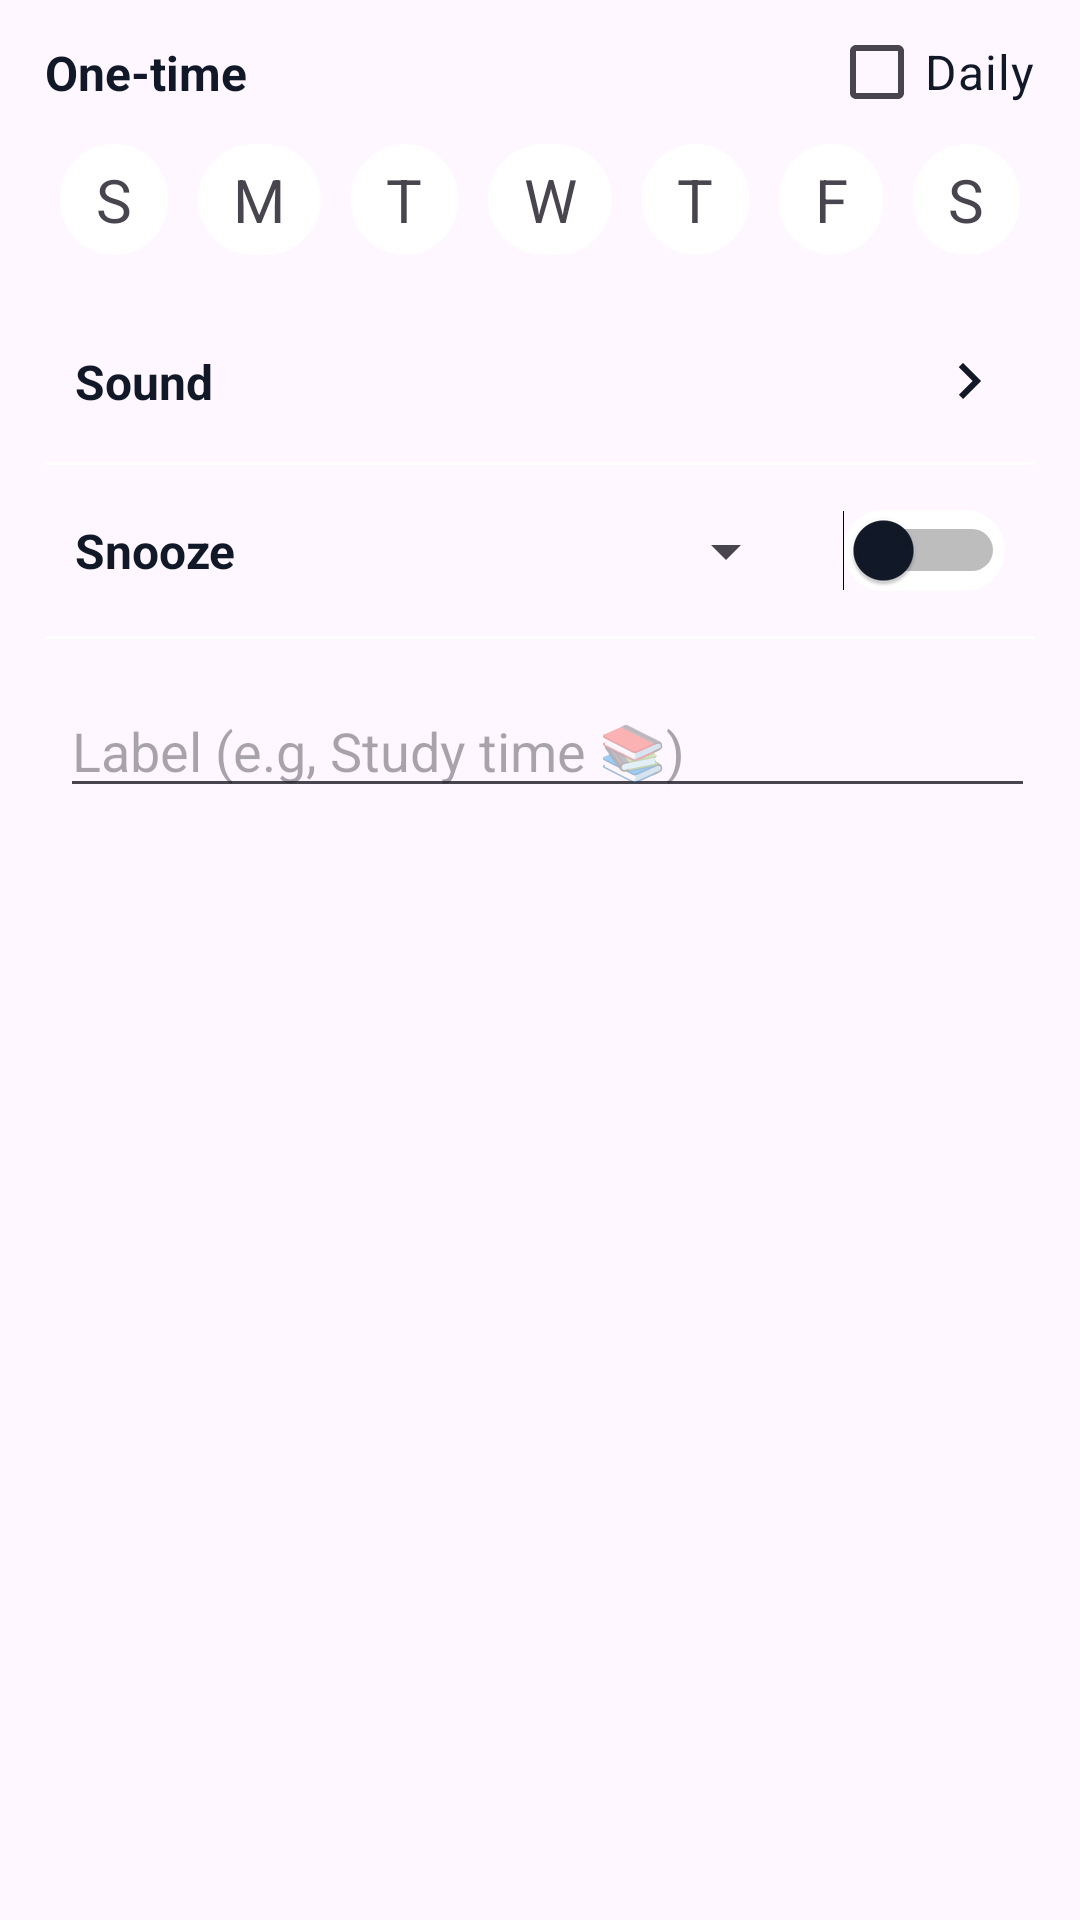

Icons on this 1080px x 1920px Android screen, each with the point to tap as point (x, y):
keyboard arrow right: point (970, 381)
